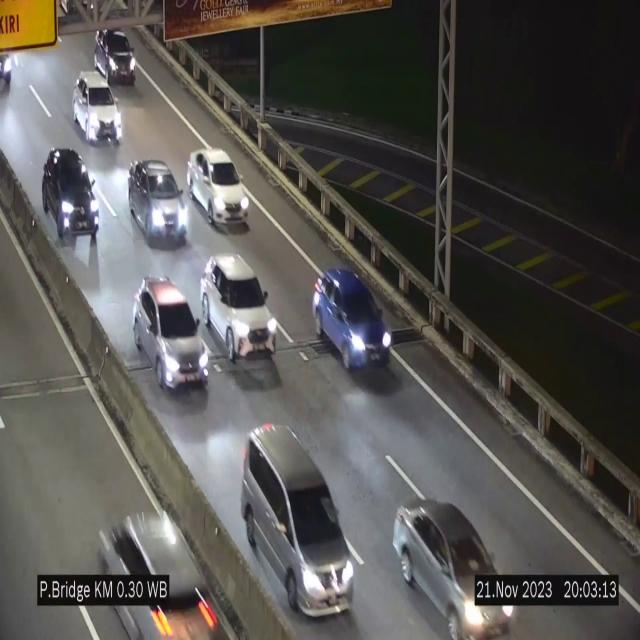Car: (82, 478, 224, 640), (242, 422, 354, 616), (394, 485, 518, 640), (200, 255, 278, 369), (133, 279, 209, 389), (312, 268, 390, 371), (45, 143, 101, 246), (128, 160, 190, 245), (187, 148, 249, 228), (73, 70, 122, 144), (94, 29, 136, 86)
